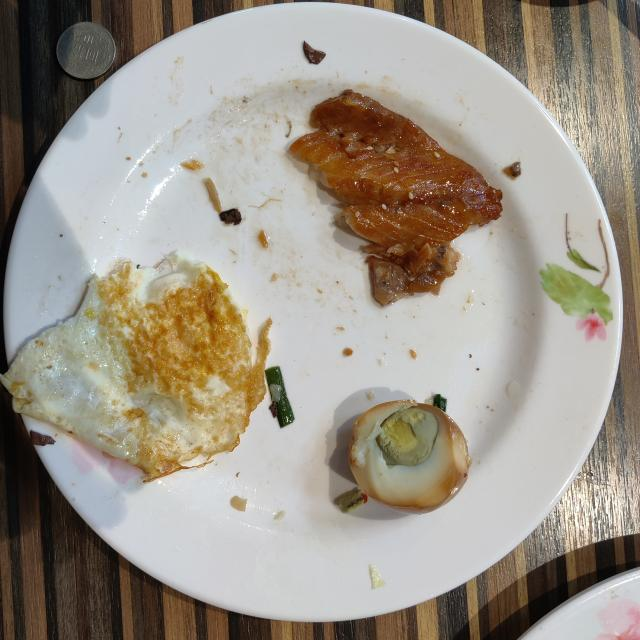Kabayaki sea bream fillet: (290, 90, 502, 304)
coin: (56, 22, 116, 79)
soy egg: (349, 400, 471, 514)
